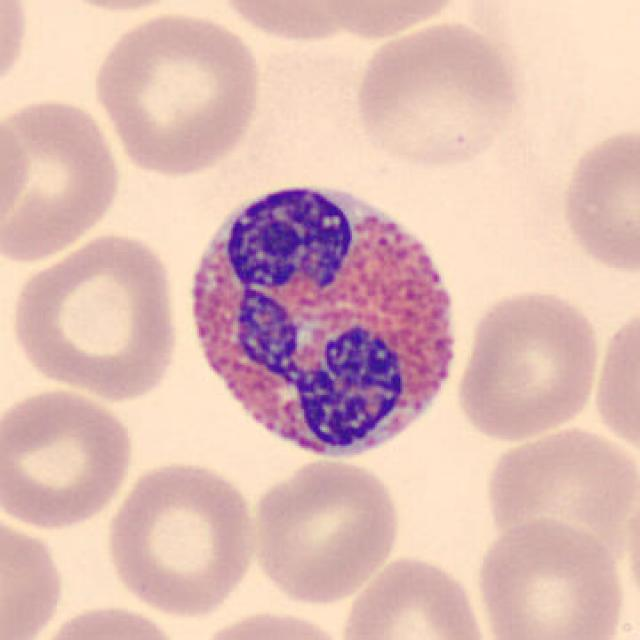Eosinophil: (172, 162, 473, 476)
RBC: (5, 229, 185, 402), (87, 9, 267, 178), (350, 19, 526, 173), (101, 457, 262, 620), (245, 455, 406, 606), (453, 284, 603, 444), (0, 93, 126, 264), (0, 384, 139, 532), (473, 513, 631, 640), (478, 421, 636, 543), (336, 552, 491, 640), (555, 122, 638, 278), (0, 506, 68, 640), (590, 298, 638, 465), (212, 0, 372, 46), (311, 0, 467, 42), (27, 601, 188, 640), (186, 606, 353, 640), (0, 97, 32, 254), (0, 0, 34, 111), (622, 478, 640, 629), (32, 0, 201, 16)
